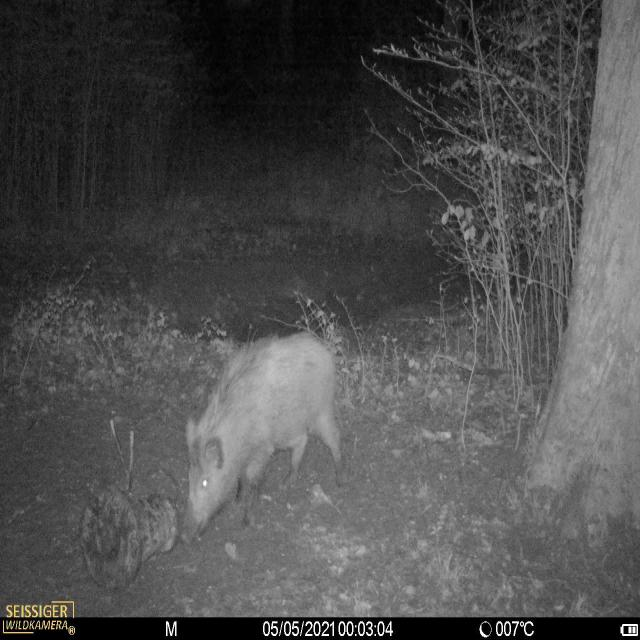wild boar: (178, 324, 350, 537)
